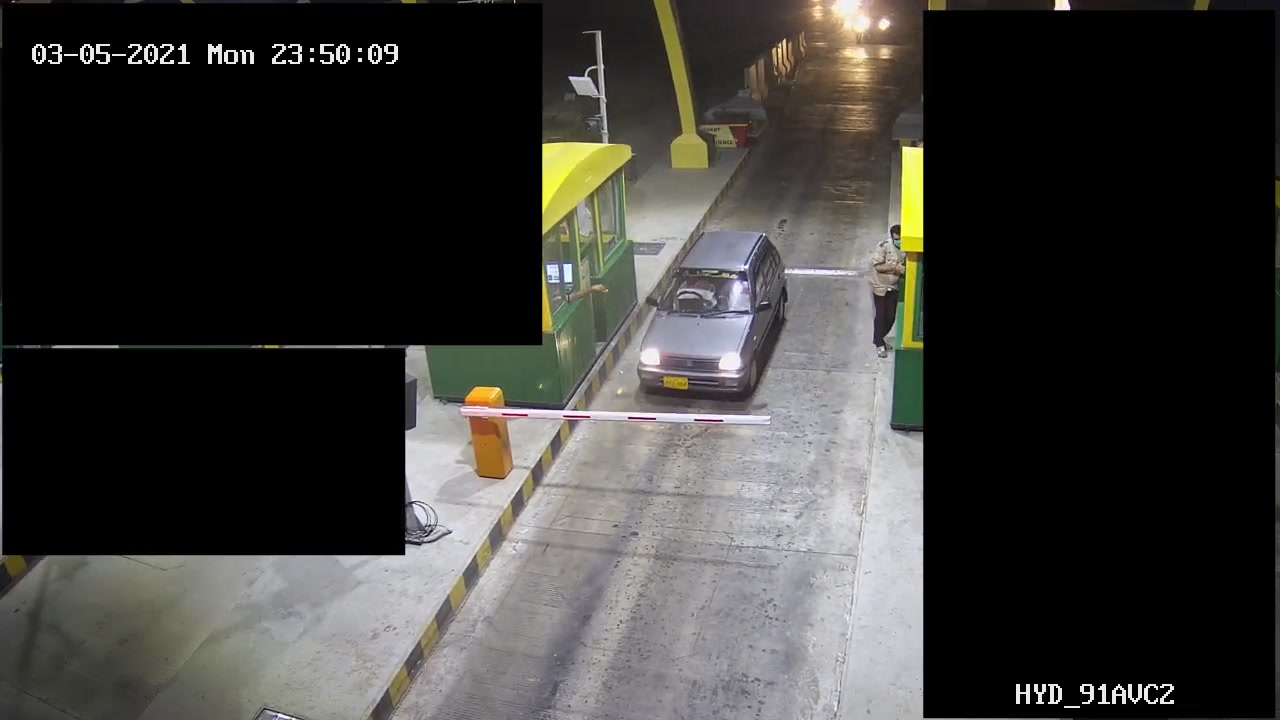F1: (629, 217, 803, 407)
